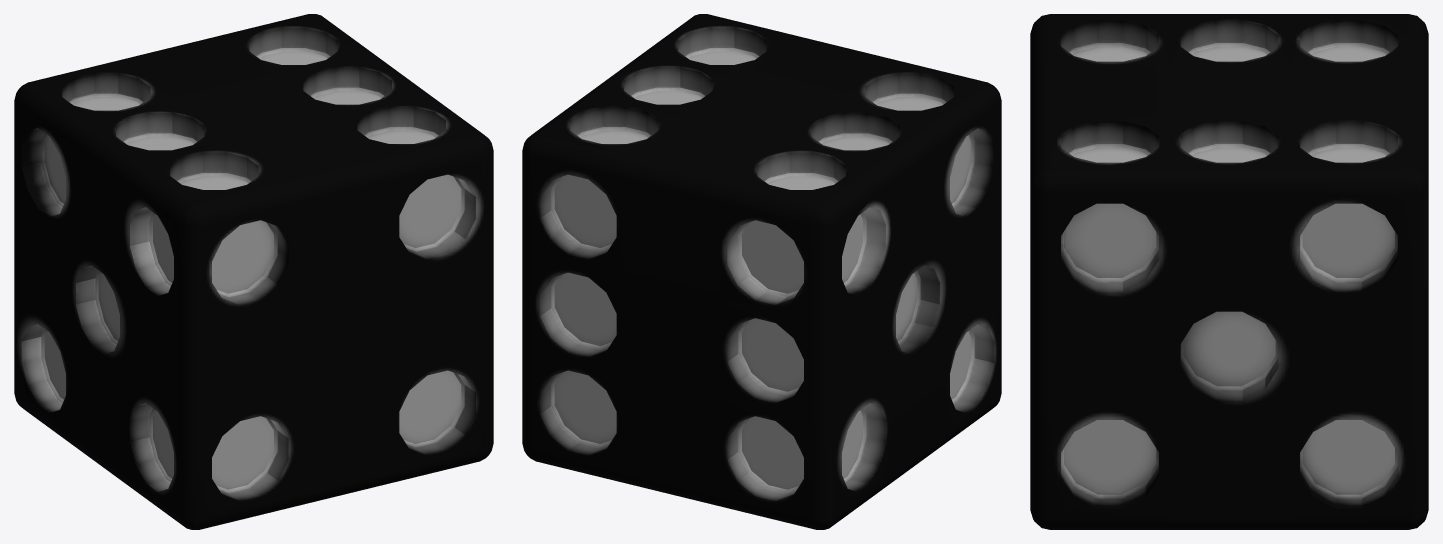
The model's file is さいころ(b_456).fbx.
3 views of the same model, side by side, from view 1: azimuth 30°, elevation 25°; view 2: azimuth 150°, elevation 25°; view 3: azimuth 270°, elevation 25° (orthographic). The views are drawn at different scales.
Parts seen in each view (by area): view 1: polySurface3; view 2: polySurface3; view 3: polySurface3.
Boxes of the visible parts, <box> form: polySurface3: <box>14,14,493,529</box>; polySurface3: <box>522,14,1001,529</box>; polySurface3: <box>1030,14,1428,529</box>.
Size of the model in its own units: 1 by 1 by 1.
1 material, 1 textured.
